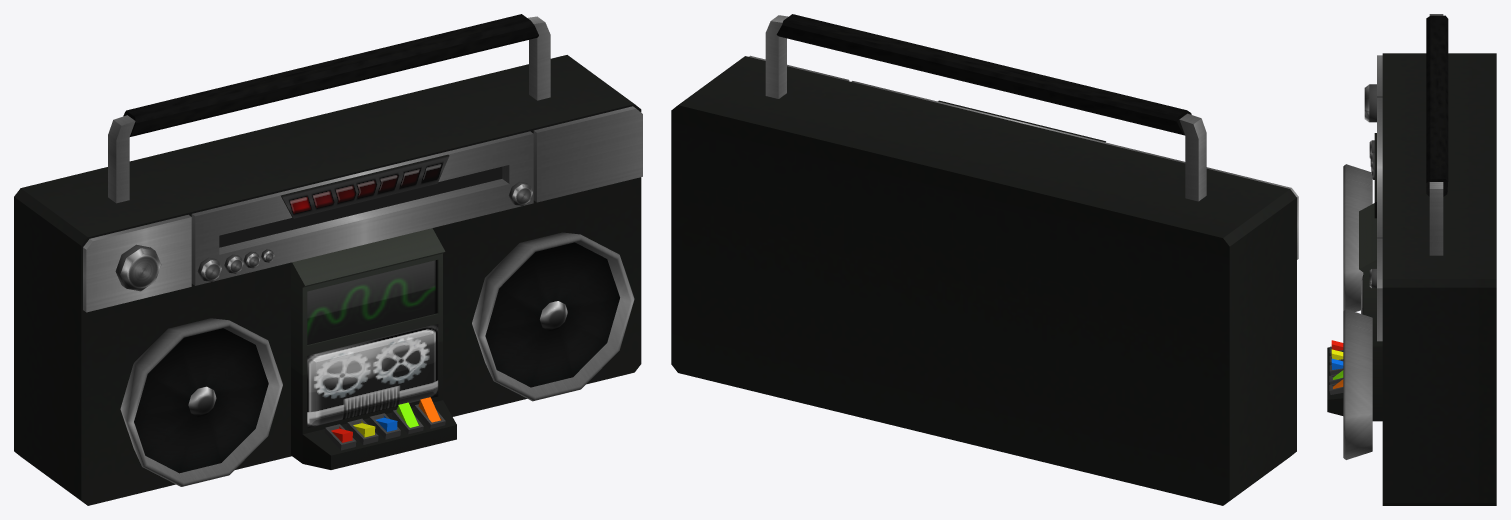
File: Boombox.FBX
3 views of the same model, side by side, from view 1: azimuth 30°, elevation 25°; view 2: azimuth 150°, elevation 25°; view 3: azimuth 270°, elevation 25° (orthographic). The views are drawn at different scales.
Visible parts, largest first — view 1: Boombox; view 2: Boombox; view 3: Boombox.
Part boxes in pixels (x1,y1,x2,y2): Boombox: [14, 14, 642, 505]; Boombox: [671, 14, 1298, 505]; Boombox: [1327, 14, 1496, 505].
Bounding box in the file's own units: 120 × 71.63 × 37.15.
